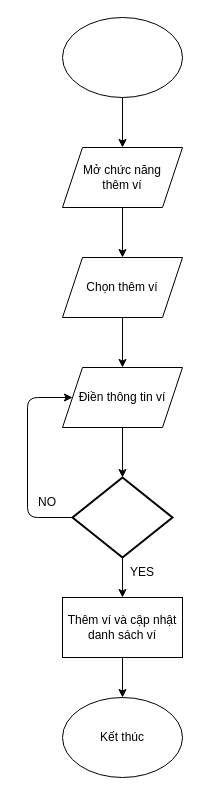
This 200x795 diagram has some shape labels left out. The shapes that lost their labels are listed below. From the top down, each one's box as (x1, y1, x2, y2) in pixels, then its label:
(62, 16, 182, 98): Bắt đầu
(71, 476, 173, 558): Đủ thông tin
